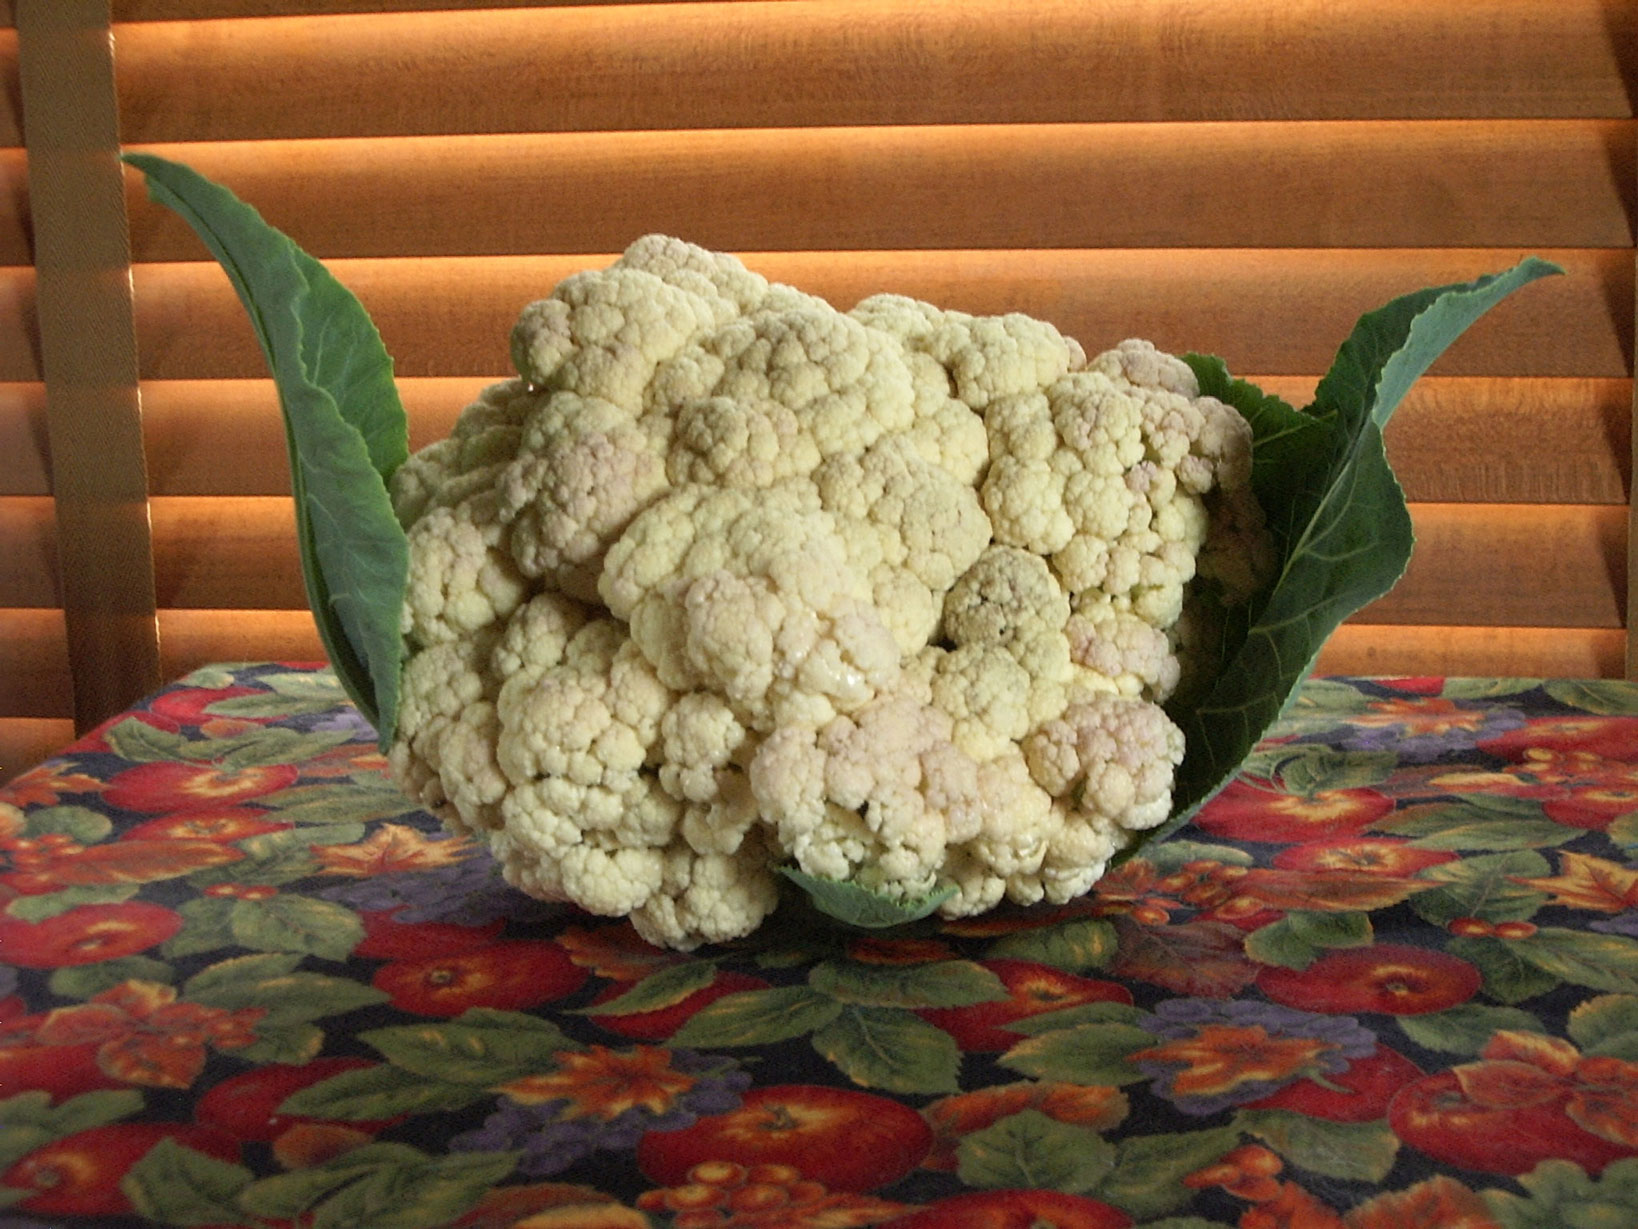cauliflower: (356, 232, 1253, 946)
